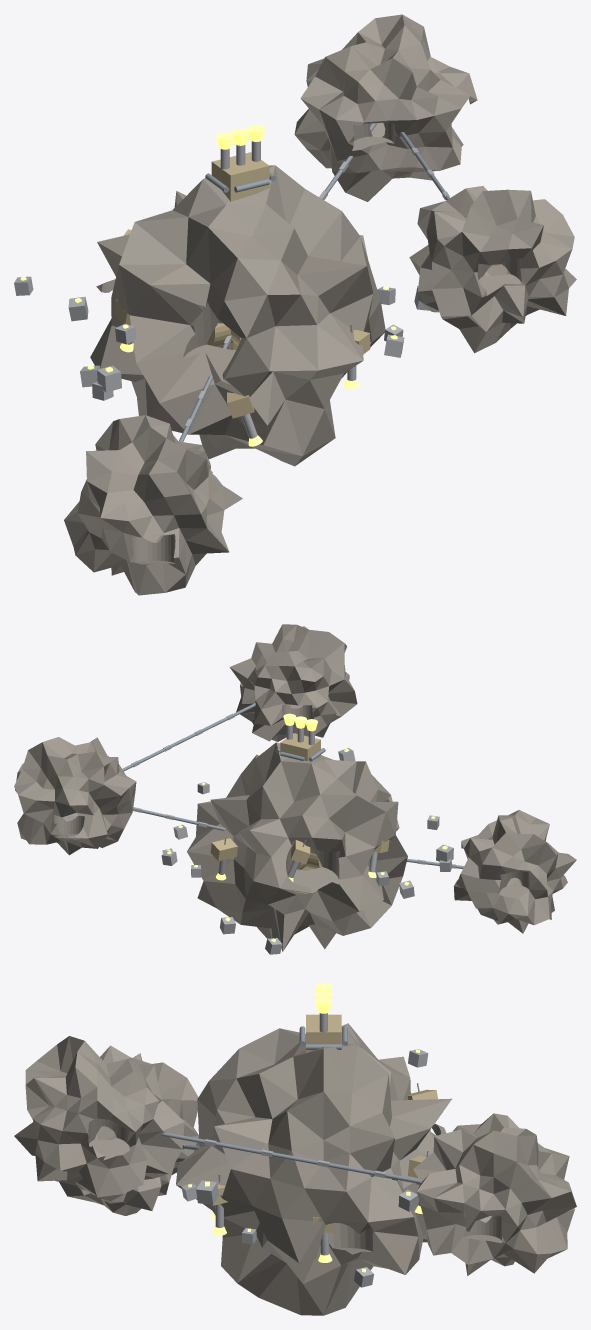
Rendered from space_mining_colony.glb.
The picture shows the model from 3 angles, top to bottom: view 1: azimuth 30°, elevation 25°; view 2: azimuth 150°, elevation 25°; view 3: azimuth 270°, elevation 25°; orthographic projection. The views are drawn at different scales.
Parts seen in each view (by area): view 1: HollowedAsteroid.001, HollowedAsteroid.002, HollowedAsteroid.003, HollowedAsteroid, ProcessingPlant; view 2: HollowedAsteroid.001, HollowedAsteroid.002, HollowedAsteroid, HollowedAsteroid.003, ProcessingPlant, MiningStation.001, TransportRail.002; view 3: HollowedAsteroid.001, HollowedAsteroid, HollowedAsteroid.002, HollowedAsteroid.003, TransportRail.002, ProcessingPlant, OreContainer.013.
Boxes of the visible parts, x1,y1,x2,y2 form: HollowedAsteroid.001: (90,165,385,466); HollowedAsteroid.002: (294,14,477,201); HollowedAsteroid.003: (64,415,242,595); HollowedAsteroid: (409,186,576,353); ProcessingPlant: (211,152,269,201); HollowedAsteroid.001: (187,742,407,951); HollowedAsteroid.002: (14,737,136,855); HollowedAsteroid: (229,624,357,741); HollowedAsteroid.003: (453,810,576,933); ProcessingPlant: (280,733,320,761); MiningStation.001: (210,838,237,861); TransportRail.002: (122,703,255,771); HollowedAsteroid.001: (176,1023,451,1315); HollowedAsteroid: (14,1036,184,1203); HollowedAsteroid.002: (413,1113,576,1275); HollowedAsteroid.003: (55,1053,199,1215); TransportRail.002: (161,1132,420,1183); ProcessingPlant: (306,1014,341,1052); OreContainer.013: (196,1180,218,1204).
Size of the model in its own units: 444 by 244 by 398.
